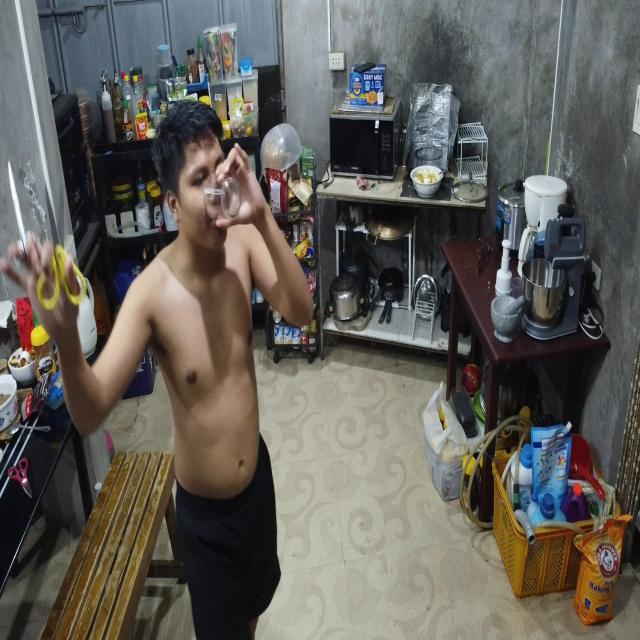scissor: (37, 179, 85, 310), (7, 459, 33, 500)
